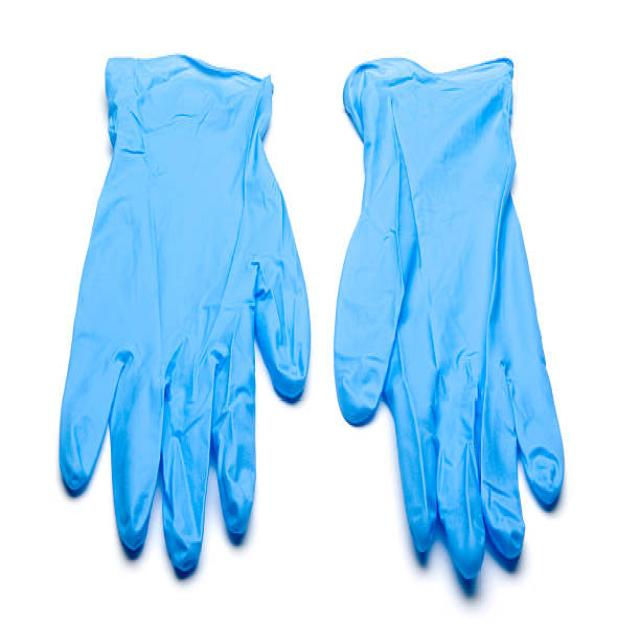masker: (43, 51, 312, 580), (336, 44, 579, 591)
